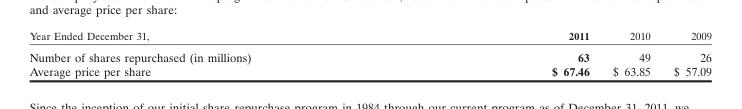table: (28, 28, 710, 77)
table column: (28, 28, 400, 77), (400, 28, 600, 77), (600, 28, 661, 77), (661, 28, 710, 77)
table column header: (28, 28, 710, 45)
table row: (28, 45, 710, 63), (28, 28, 710, 45), (28, 63, 710, 77)
